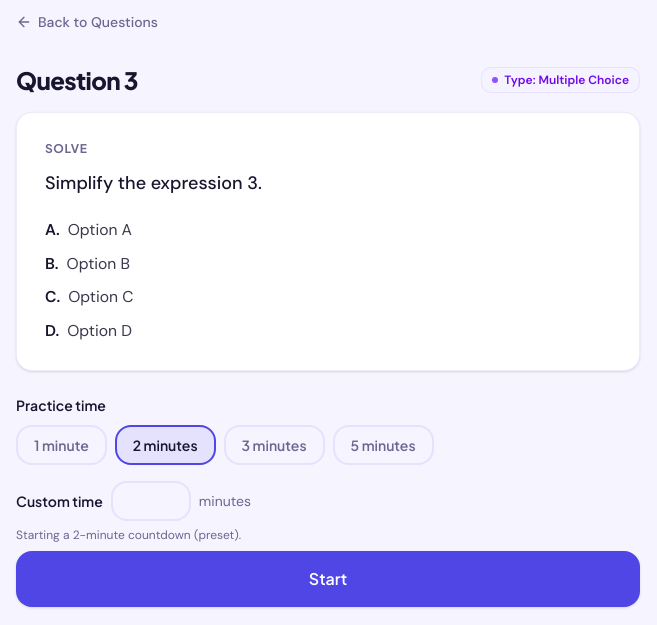
Test: Try Question practice screen › defaults to 2 minutes when the duration is not changed
This screenshot has width=657, height=625.
Click the button "Start".
click(328, 579)  # box x1=16 y1=551 x2=640 y2=607
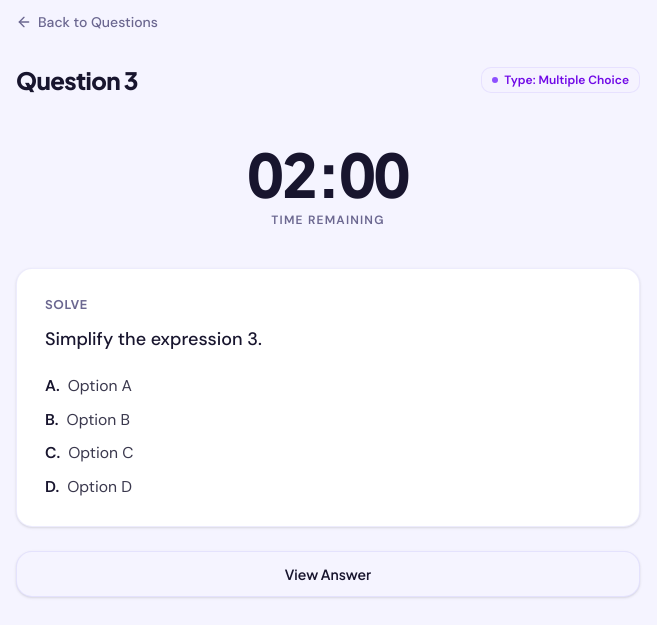
Now the text "02:00" is shown, box x1=248 y1=144 x2=408 y2=204
